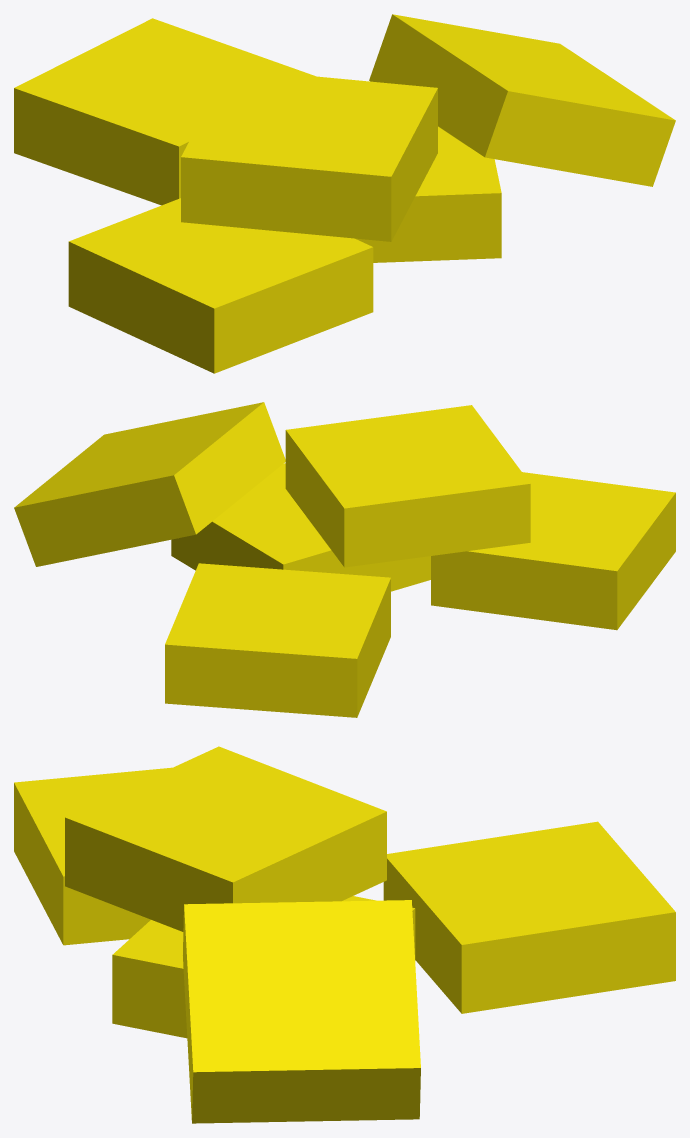
The model's file is coin5Model.obj.
The picture shows the model from 3 angles, top to bottom: view 1: azimuth 30°, elevation 25°; view 2: azimuth 150°, elevation 25°; view 3: azimuth 270°, elevation 25°; orthographic projection. The views are drawn at different scales.
Visible parts, largest first — view 1: cuboid; view 2: cuboid; view 3: cuboid.
Boxes of the visible parts, x1,y1,x2,y2 form: cuboid: (14, 14, 675, 373); cuboid: (14, 402, 675, 717); cuboid: (14, 746, 675, 1123).
Bounding box in the file's own units: 0.5894 × 0.1295 × 0.5445.
1 material, 1 textured.
